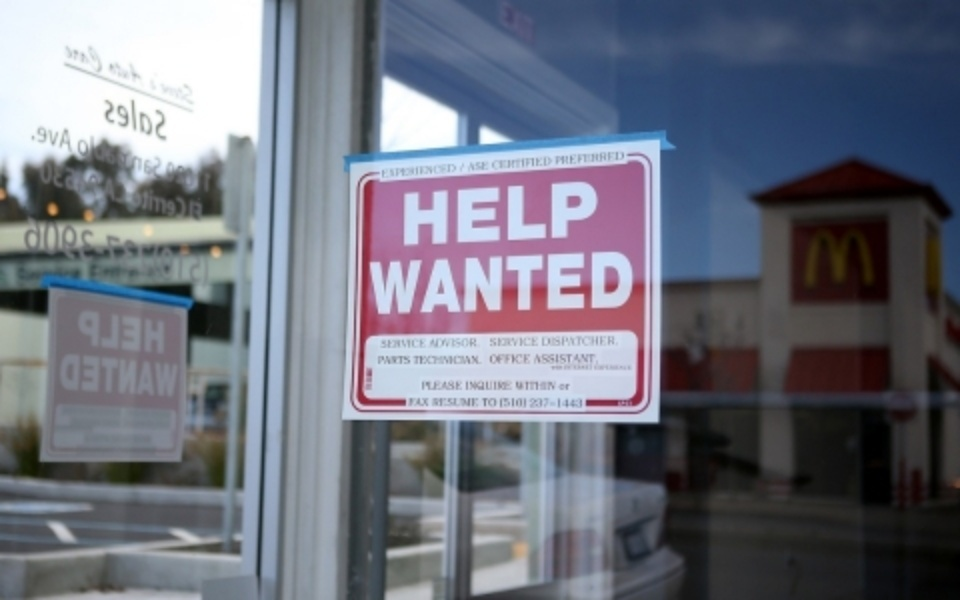text: (33, 209, 48, 291), (49, 209, 64, 291), (65, 209, 80, 291), (81, 209, 96, 291), (97, 209, 112, 291), (113, 209, 128, 291), (129, 209, 144, 291), (145, 209, 160, 291), (161, 209, 176, 291), (177, 209, 192, 291), (193, 209, 208, 291), (193, 151, 209, 227), (49, 151, 64, 227), (65, 151, 80, 227), (81, 151, 96, 227), (97, 151, 112, 227), (113, 151, 128, 227), (129, 151, 144, 227), (145, 151, 160, 227), (161, 151, 176, 227), (177, 151, 192, 227), (33, 119, 48, 194), (49, 119, 64, 194), (65, 119, 80, 194), (81, 119, 96, 194), (97, 119, 112, 194), (113, 119, 128, 194), (129, 119, 144, 194), (145, 119, 160, 194), (161, 119, 176, 194), (177, 119, 192, 194), (193, 119, 208, 194), (369, 245, 384, 316), (385, 245, 400, 316), (401, 245, 416, 316), (417, 245, 432, 316), (433, 245, 448, 316), (449, 245, 464, 316), (465, 245, 480, 316), (481, 245, 496, 316), (497, 245, 512, 316), (513, 245, 528, 316), (529, 245, 544, 316), (545, 245, 560, 316), (561, 245, 576, 316), (577, 245, 592, 316), (593, 245, 608, 316), (609, 245, 624, 316), (65, 39, 80, 110), (81, 39, 96, 110), (97, 39, 112, 110), (113, 39, 128, 110), (129, 39, 144, 110), (145, 39, 160, 110), (161, 39, 176, 110), (177, 39, 192, 110), (401, 181, 416, 249), (417, 181, 432, 249), (433, 181, 448, 249), (449, 181, 464, 249), (465, 181, 480, 249), (481, 181, 496, 249), (497, 181, 512, 249), (513, 181, 528, 249), (529, 181, 544, 249), (545, 181, 560, 249), (561, 181, 576, 249), (577, 181, 592, 249), (209, 209, 221, 291), (817, 229, 832, 291), (833, 229, 848, 291), (849, 229, 864, 291), (209, 119, 221, 194), (625, 245, 637, 316), (803, 229, 816, 291), (113, 91, 128, 143), (129, 91, 144, 143), (145, 91, 160, 143), (81, 307, 96, 359), (97, 307, 112, 359), (113, 307, 128, 359), (129, 307, 144, 359), (145, 307, 160, 359), (65, 351, 80, 399), (81, 351, 96, 399), (97, 351, 112, 399), (113, 351, 128, 399), (129, 351, 144, 399), (145, 351, 160, 399), (161, 351, 176, 399), (193, 39, 203, 110), (161, 91, 173, 143), (865, 229, 875, 291), (25, 209, 32, 291), (41, 151, 48, 227), (385, 147, 400, 181), (401, 147, 416, 181), (417, 147, 432, 181), (433, 147, 448, 181), (449, 147, 464, 181), (465, 147, 480, 181), (481, 147, 496, 181), (497, 147, 512, 181), (513, 147, 528, 181), (529, 147, 544, 181), (545, 147, 560, 181), (561, 147, 576, 181), (577, 147, 592, 181), (593, 147, 608, 181), (609, 147, 624, 181), (161, 307, 169, 359), (593, 181, 599, 249), (177, 351, 185, 399), (105, 91, 112, 143), (465, 335, 481, 353), (385, 335, 400, 353), (401, 335, 416, 353), (417, 335, 432, 353), (433, 335, 448, 353), (449, 335, 464, 353), (65, 401, 80, 419), (81, 401, 96, 419), (97, 401, 112, 419), (113, 401, 128, 419), (129, 401, 144, 419), (145, 401, 160, 419), (161, 401, 176, 419), (65, 413, 80, 431), (81, 413, 96, 431), (97, 413, 112, 431), (113, 413, 128, 431), (129, 413, 144, 431), (145, 413, 160, 431), (161, 413, 176, 431), (497, 333, 512, 349), (513, 333, 528, 349), (529, 333, 544, 349), (545, 333, 560, 349), (561, 333, 576, 349), (577, 333, 592, 349), (593, 333, 608, 349), (465, 353, 481, 367), (401, 353, 417, 367), (61, 39, 64, 110), (417, 353, 432, 367), (433, 353, 448, 367), (449, 353, 464, 367), (497, 353, 512, 367), (513, 353, 528, 367), (385, 353, 400, 367), (465, 379, 480, 393), (481, 379, 496, 393), (529, 379, 544, 393), (545, 379, 560, 393), (625, 147, 631, 181), (497, 379, 511, 393), (561, 379, 575, 393), (609, 333, 621, 349), (449, 381, 465, 393), (417, 397, 433, 409), (433, 397, 448, 409), (449, 397, 464, 409), (465, 397, 480, 409), (545, 353, 560, 365), (561, 353, 576, 365), (577, 353, 592, 365), (433, 381, 448, 393), (529, 397, 544, 409), (545, 397, 560, 409), (561, 397, 576, 409), (97, 433, 112, 445), (113, 433, 128, 445), (129, 433, 144, 445), (145, 433, 160, 445), (379, 147, 384, 181), (513, 397, 527, 409), (55, 413, 64, 431), (483, 397, 496, 409), (77, 307, 80, 359), (83, 433, 96, 445), (499, 397, 512, 409), (517, 379, 528, 393), (561, 365, 576, 375), (577, 365, 592, 375), (593, 365, 608, 375), (609, 365, 624, 375), (487, 333, 496, 349), (61, 351, 64, 399), (421, 381, 432, 393), (377, 335, 384, 353), (535, 353, 544, 365), (407, 397, 416, 409), (625, 365, 635, 375), (489, 353, 496, 367), (377, 353, 384, 367), (577, 397, 585, 409), (177, 401, 181, 419), (177, 413, 181, 431), (367, 245, 368, 316), (553, 365, 560, 375), (399, 181, 400, 249), (529, 353, 533, 367), (61, 401, 64, 419), (593, 353, 597, 365), (413, 353, 416, 367), (497, 397, 499, 409), (481, 397, 483, 409), (161, 433, 163, 445), (463, 379, 464, 393)
